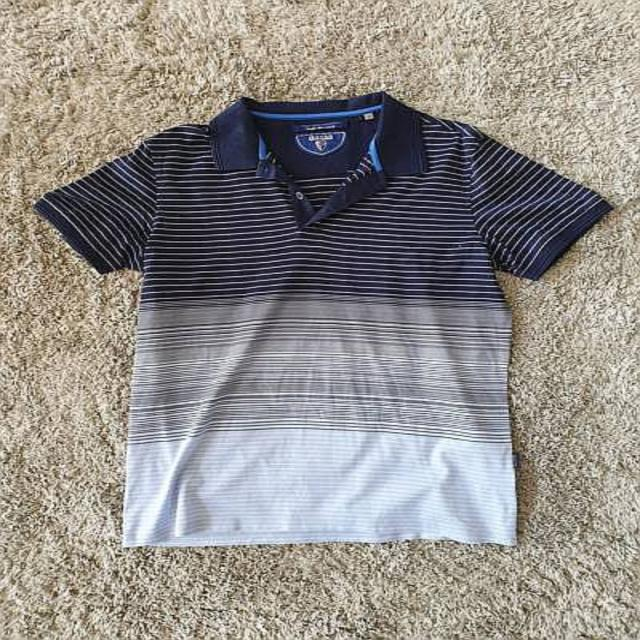T_SHIRT: (32, 95, 622, 554)
